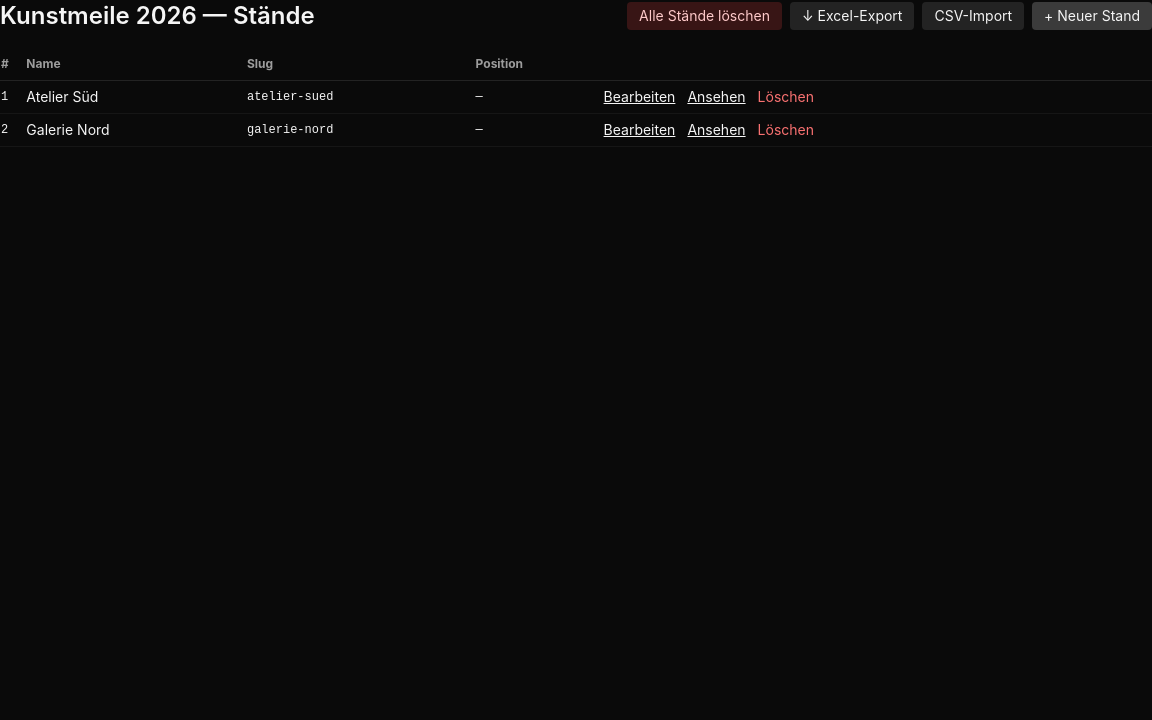
TentListPage › closes the bulk-delete modal without deleting when cancel is clicked
Expected: the text "Galerie Nord" is shown, [25,114,246,146]
Click the button "Alle Stände löschen": (705, 16) [627,2,782,30]
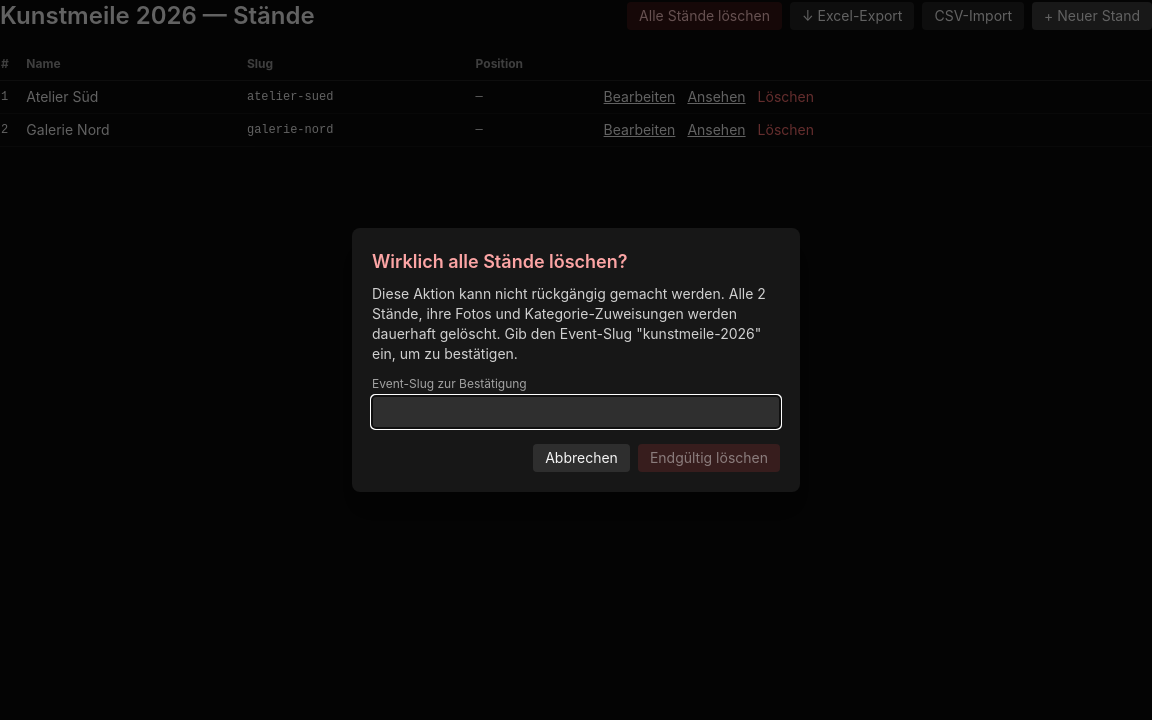
Result: the dialog is shown
Click the button "Abbrechen": (582, 458) [533,444,630,472]
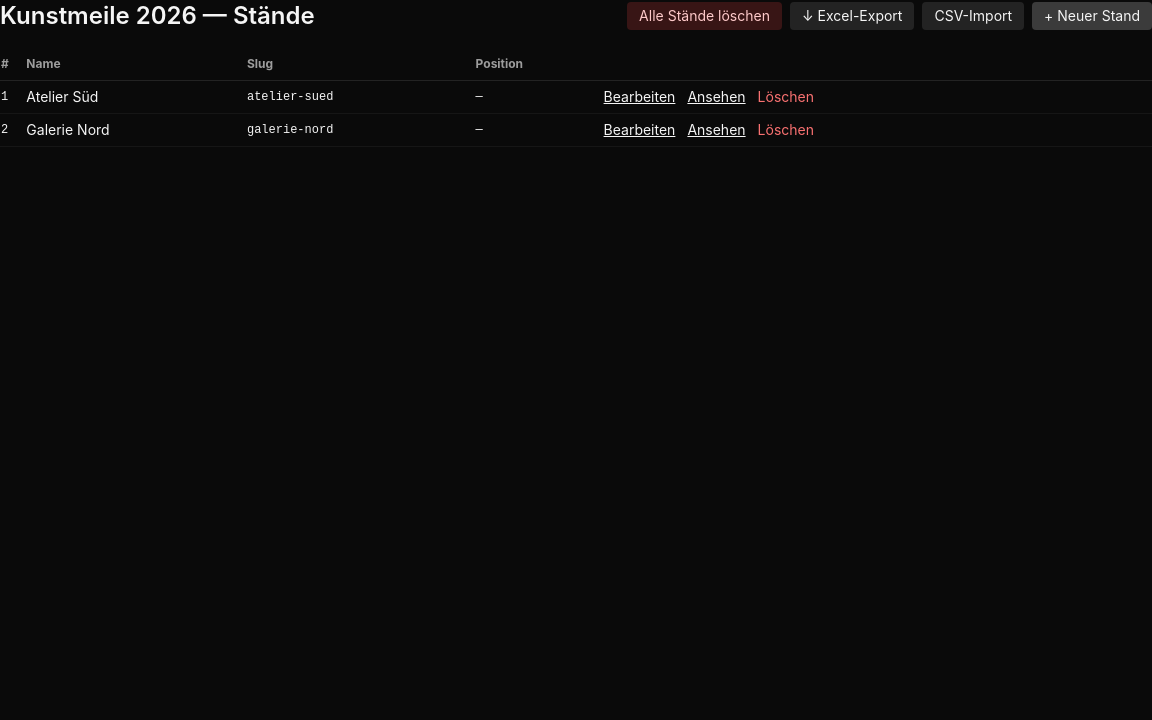
Result: the dialog is gone
